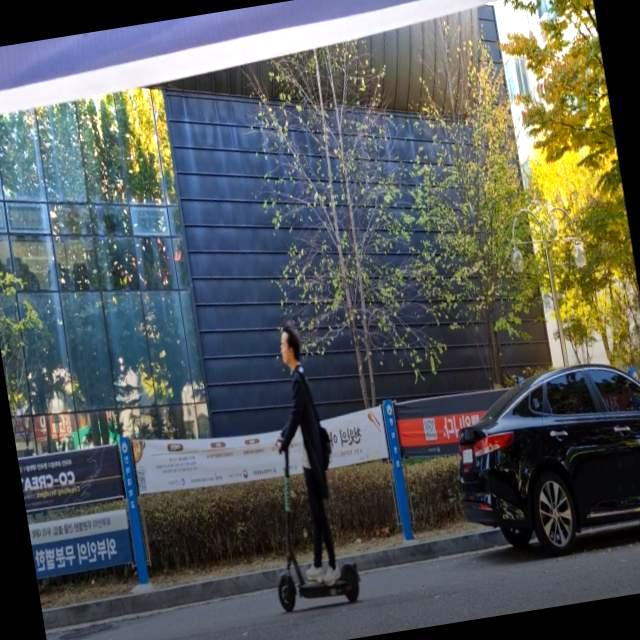bare_head: (266, 317, 315, 368)
human: (259, 314, 346, 574)
kickboard: (256, 561, 370, 613)
